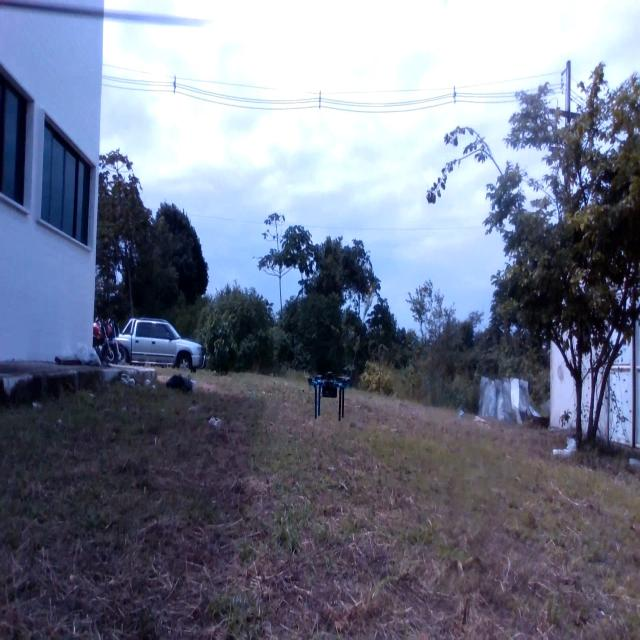-uav-: (303, 360, 352, 420)
